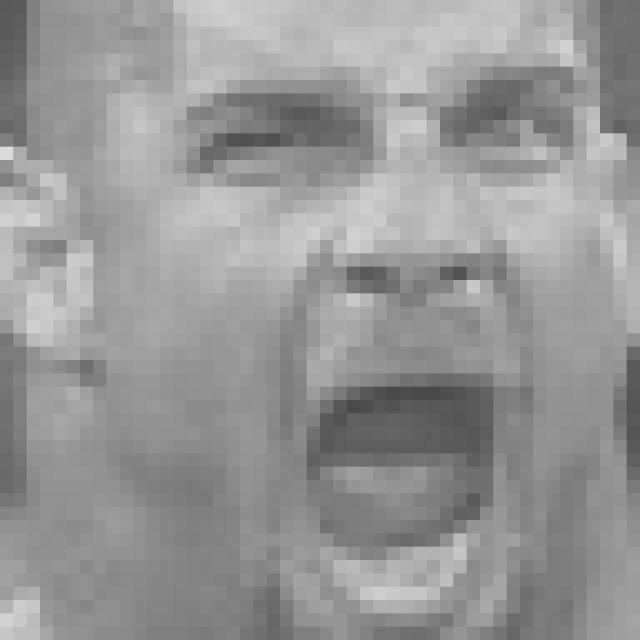angry: (174, 58, 577, 625)
